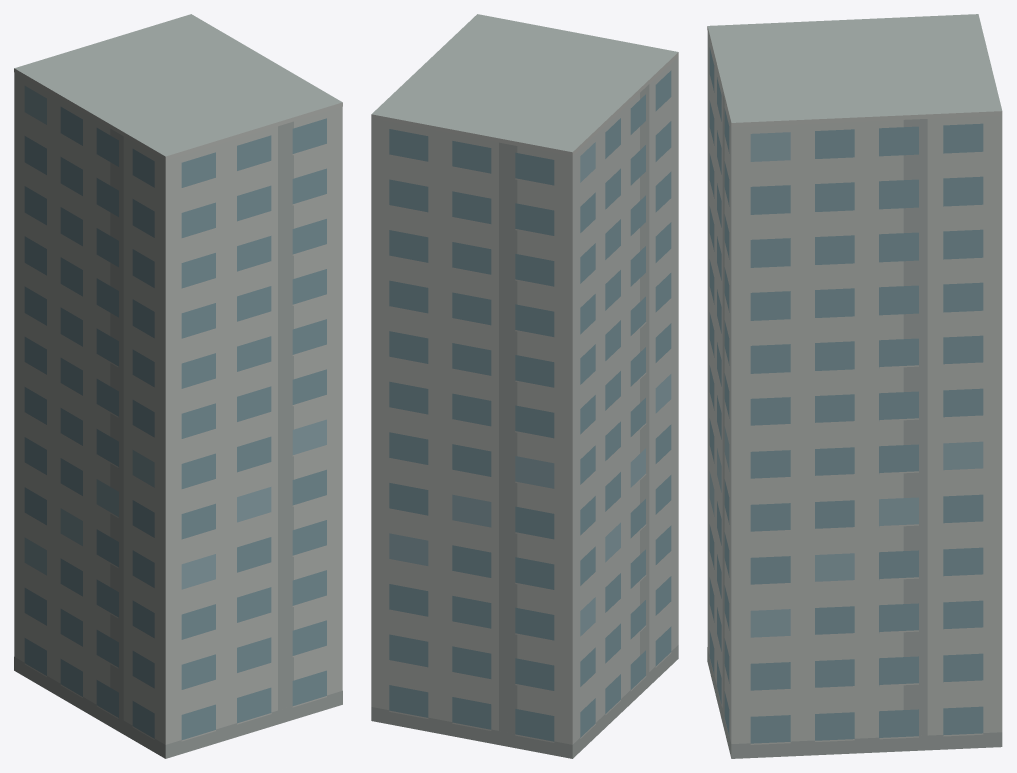
Rendered from residential-5a14aa1a-7964-411c-97f5-2e7b00c5cb5f.glb.
3 renders of one model, left to right at view 1: azimuth 30°, elevation 25°; view 2: azimuth 150°, elevation 25°; view 3: azimuth 270°, elevation 25°, orthographic. The views are drawn at different scales.
Visible parts, largest first — view 1: residential-5a14aa1a-7964-411c-97f5-2e7b00c5cb5f.tmp; view 2: residential-5a14aa1a-7964-411c-97f5-2e7b00c5cb5f.tmp; view 3: residential-5a14aa1a-7964-411c-97f5-2e7b00c5cb5f.tmp.
Boxes of the visible parts, x1,y1,x2,y2 form: residential-5a14aa1a-7964-411c-97f5-2e7b00c5cb5f.tmp: [14, 14, 342, 758]; residential-5a14aa1a-7964-411c-97f5-2e7b00c5cb5f.tmp: [371, 14, 678, 758]; residential-5a14aa1a-7964-411c-97f5-2e7b00c5cb5f.tmp: [707, 14, 1002, 758].
Size of the model in its own units: 12.87 by 35 by 14.72.
